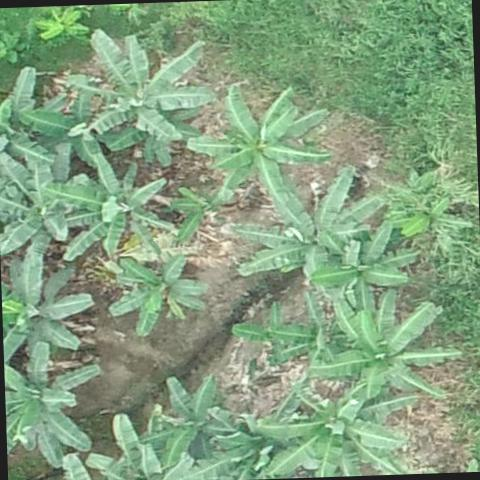Banana-plant: (66, 23, 222, 166), (186, 80, 331, 207), (308, 289, 462, 406), (225, 177, 384, 280), (262, 377, 407, 479), (56, 148, 178, 262), (4, 343, 102, 467), (0, 256, 98, 359), (209, 384, 305, 480), (106, 250, 211, 336), (313, 225, 420, 308), (26, 77, 122, 168), (0, 147, 77, 255), (158, 373, 235, 462), (0, 69, 63, 166), (274, 293, 344, 377), (400, 194, 461, 239), (35, 8, 86, 44), (0, 29, 26, 65)
